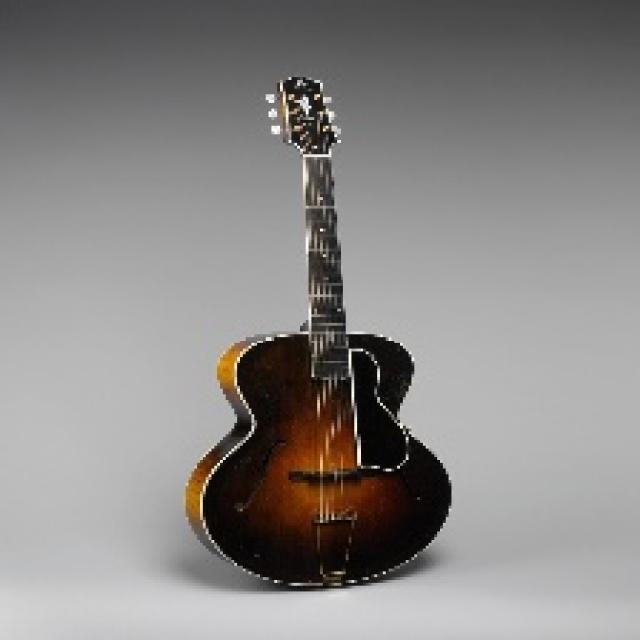acousticguitar: (186, 77, 450, 585)
